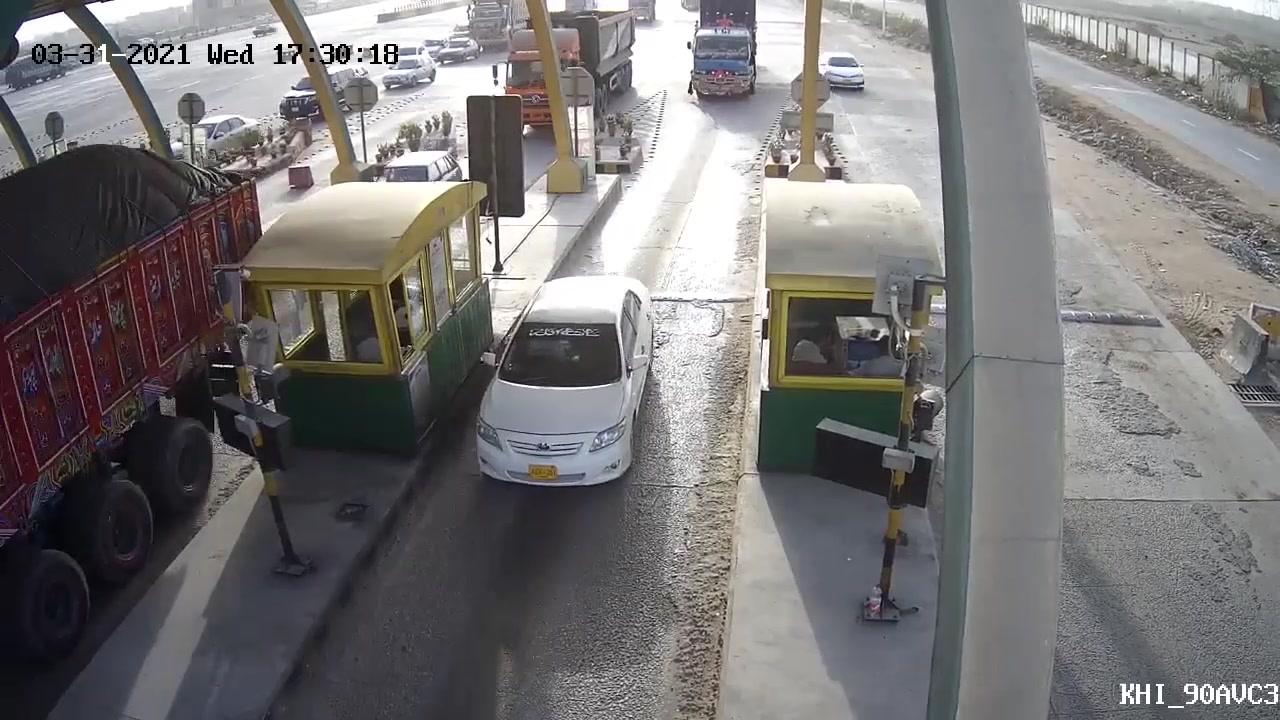F1: (461, 268, 661, 499)
